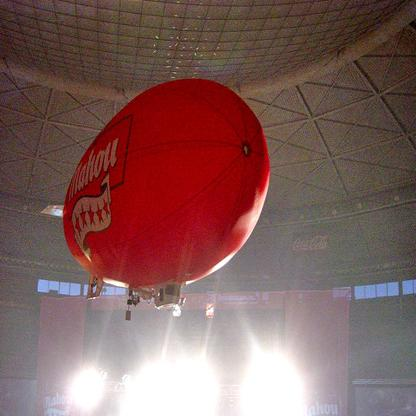Airship: (59, 77, 273, 320)
